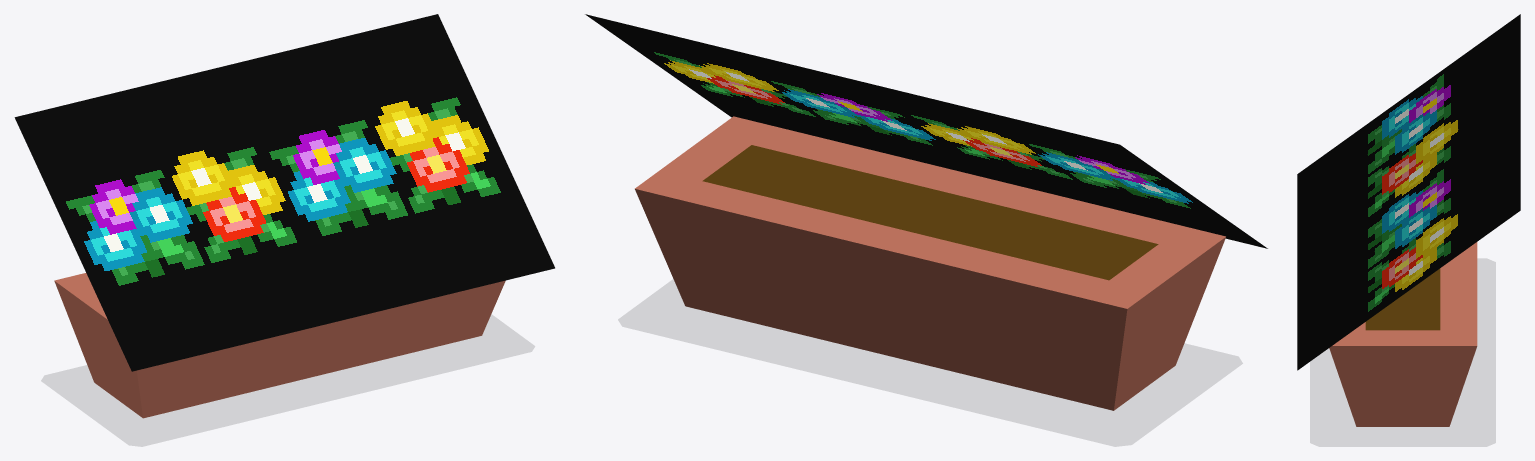
The model's file is modelo.obj.
The picture shows the model from 3 angles, left to right: view 1: azimuth 30°, elevation 25°; view 2: azimuth 150°, elevation 25°; view 3: azimuth 270°, elevation 25°; orthographic projection. The views are drawn at different scales.
Parts seen in each view (by area): view 1: polygon1, polygon3, polygon2; view 2: polygon3, polygon1, polygon2, polygon0; view 3: polygon1, polygon3, polygon2, polygon0.
Part boxes in pixels (box(x1,y1,x2,y2)): polygon1: box(14, 14, 554, 371); polygon3: box(54, 273, 505, 418); polygon2: box(41, 315, 534, 446); polygon3: box(635, 116, 1225, 410); polygon1: box(585, 14, 1267, 248); polygon2: box(618, 280, 1242, 446); polygon0: box(702, 145, 1158, 280); polygon1: box(1297, 14, 1520, 370); polygon3: box(1329, 242, 1477, 426); polygon2: box(1310, 259, 1495, 446); polygon0: box(1365, 268, 1440, 330).
Size of the model in its own units: 50 by 28.5 by 24.
4 materials, 4 textured.
